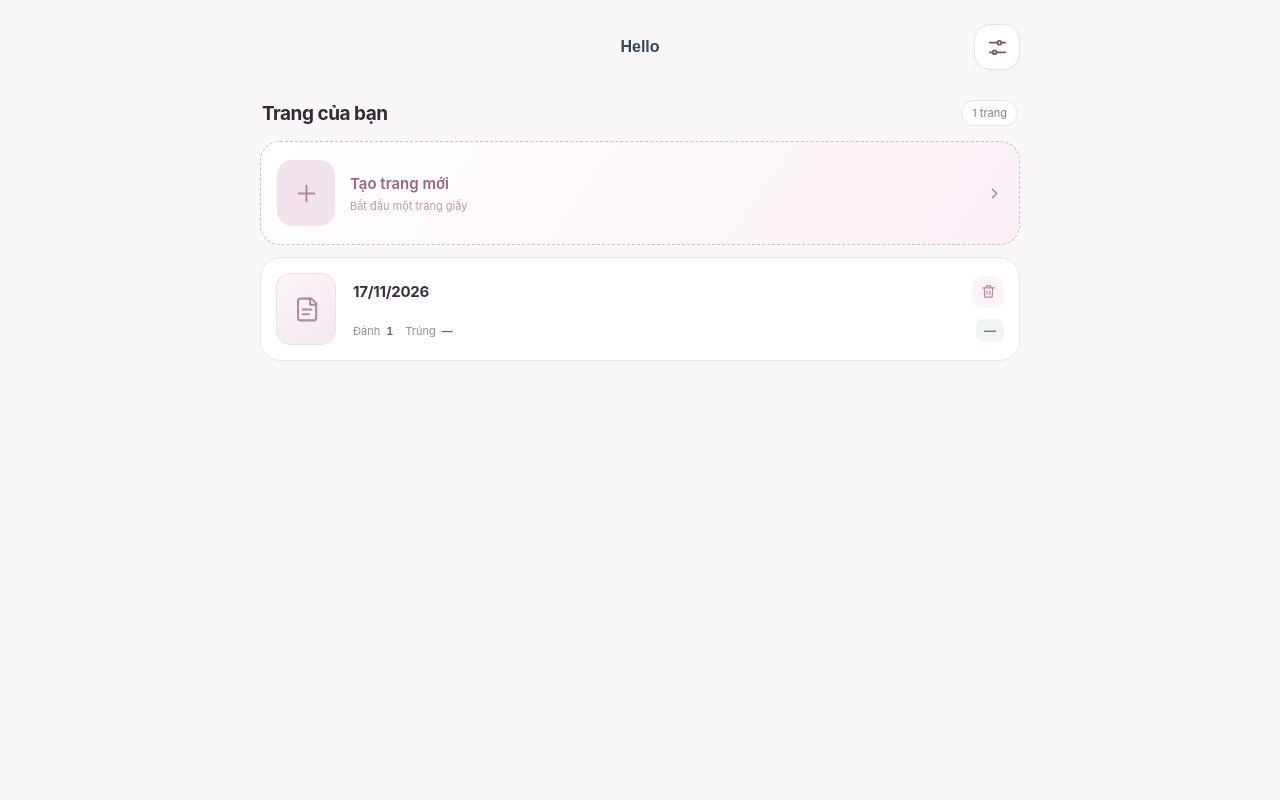
Test: application integration › pastes clipboard contents once per field and clears each stored result independently
The image size is (1280, 800).
Later steps or results of the test are not shown.
expect the button with aria-label "Tạo A4 mới" is shown: met, box [260,141,1020,245]
Click the button named "Mở A4 ngày". click: (307, 309)
box: [276,273,338,345]
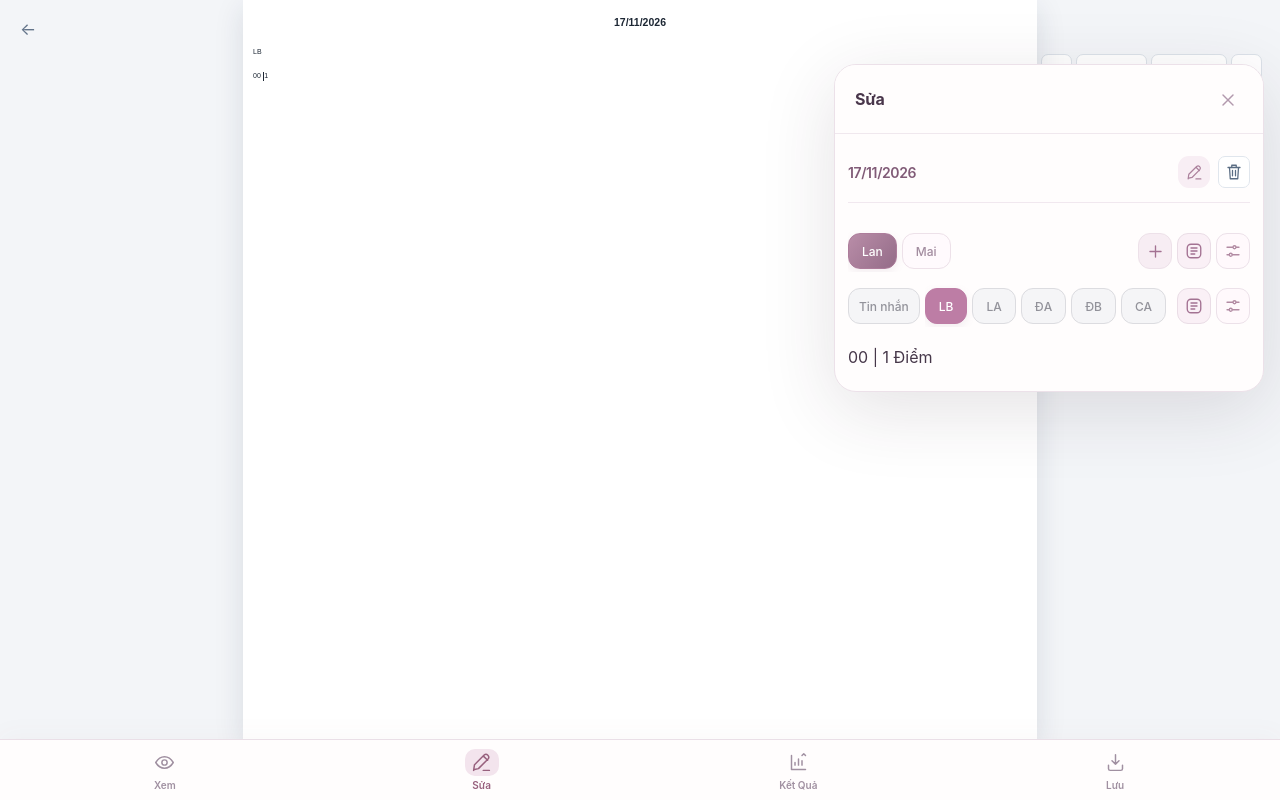
Click the button "Kết Quả". click: (798, 770)
box: [642,745,955,795]
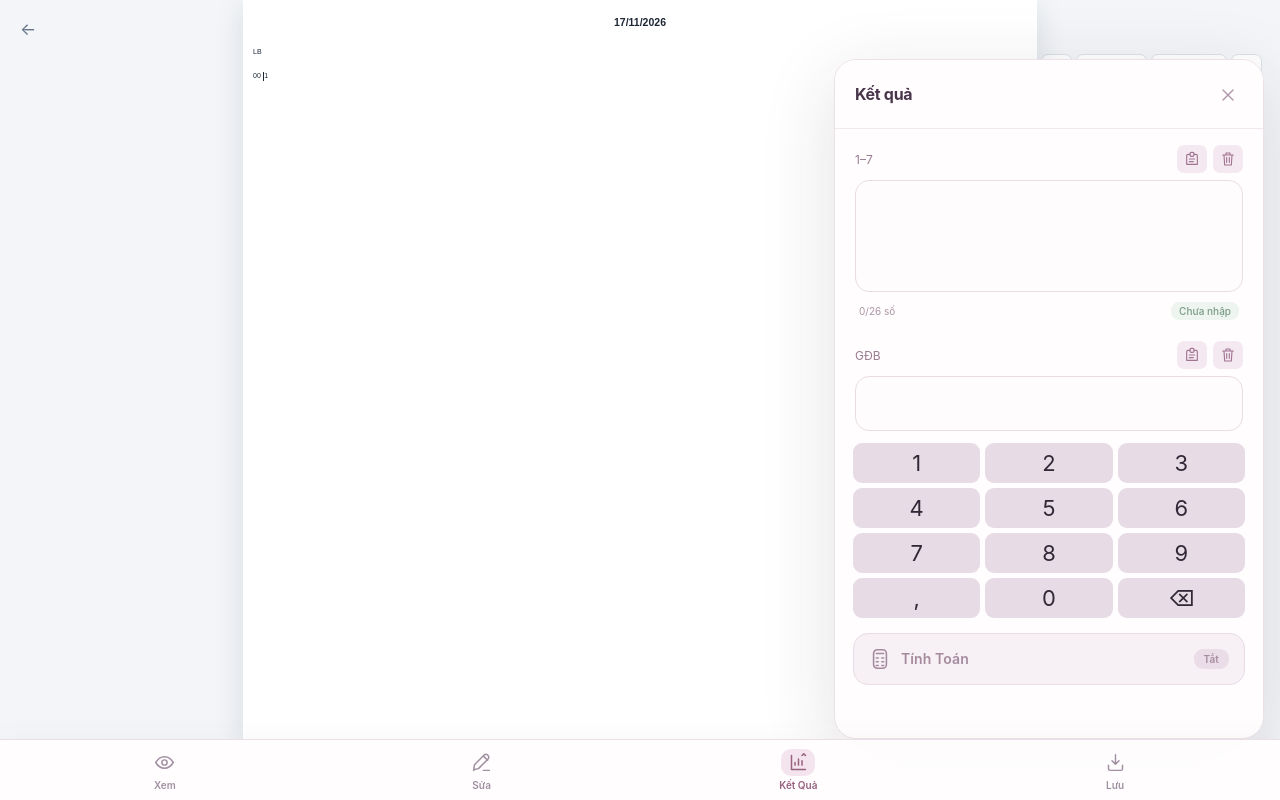
Click the button named "Dán kết quả 1–7". click: (1192, 159)
box: [1177,145,1207,173]
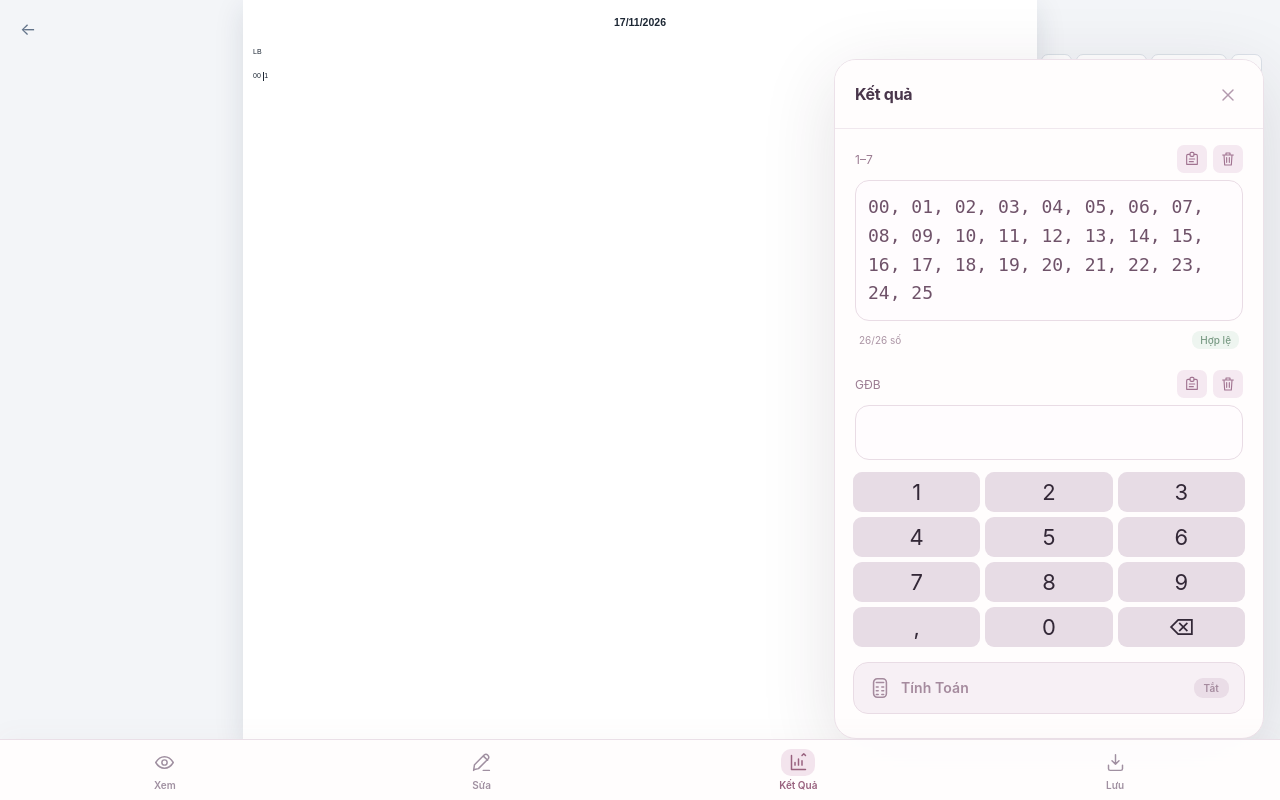
Click the button named "Dán kết quả 1–7". click: (1192, 159)
box: [1177,145,1207,173]
Click the button named "Dán GĐB". click: (1192, 384)
box: [1177,370,1207,398]
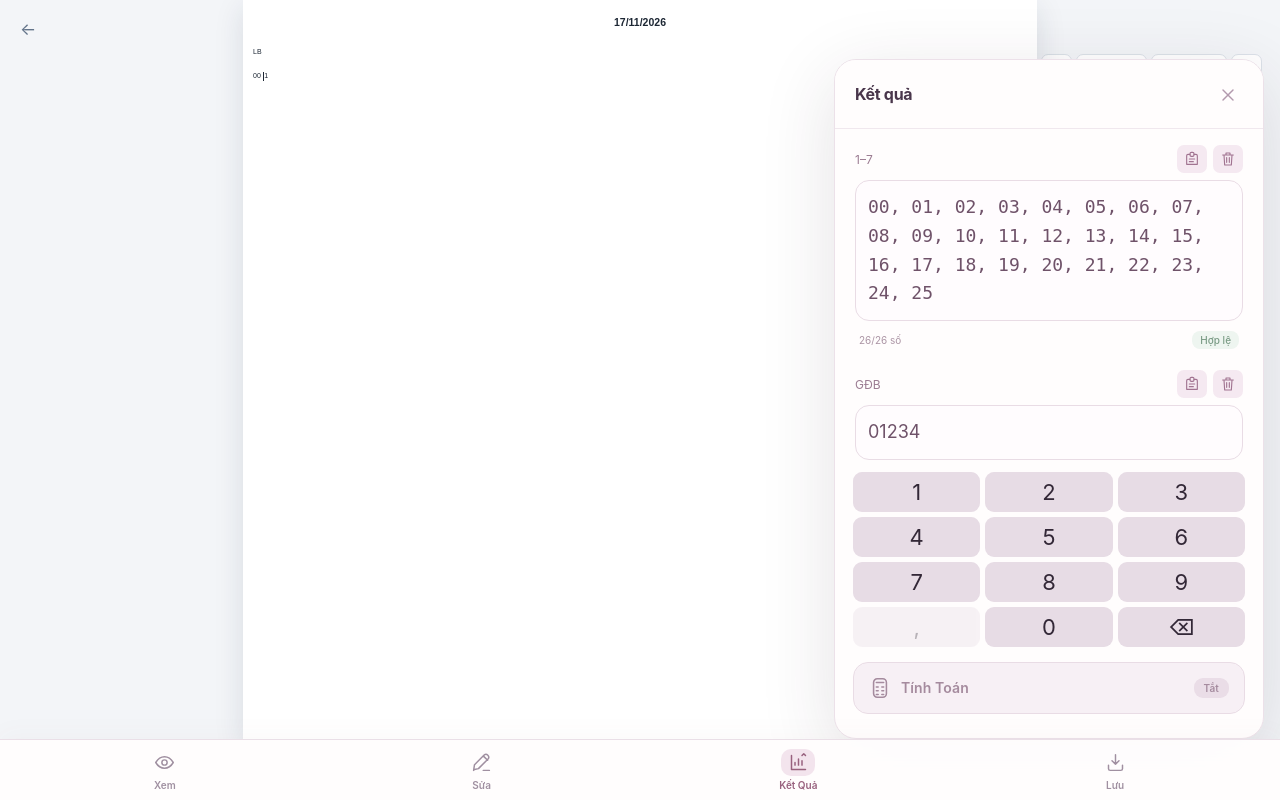
expect the field labelled "GĐB" holds "01234": met, box [855,405,1243,460]
Click the button named "Xóa hết kết quả 1–7". click: (1228, 159)
box: [1213,145,1243,173]
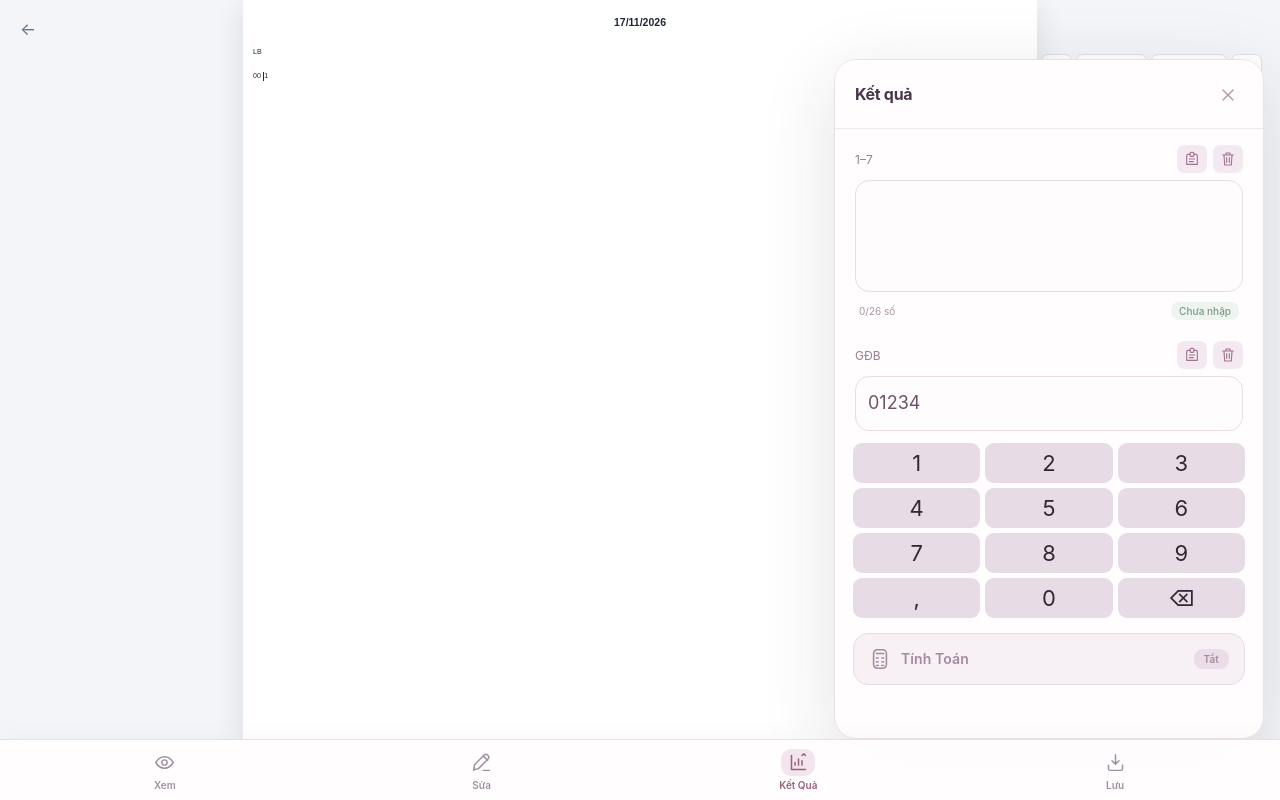
expect the field labelled "GĐB" holds "01234": met, box [855,376,1243,431]
expect the text box labelled "1–7" is empty: met, box [855,180,1243,292]
